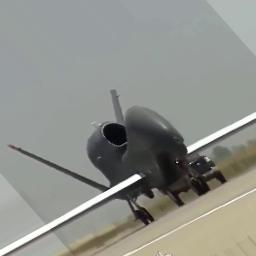ghawk: (8, 88, 256, 236)
